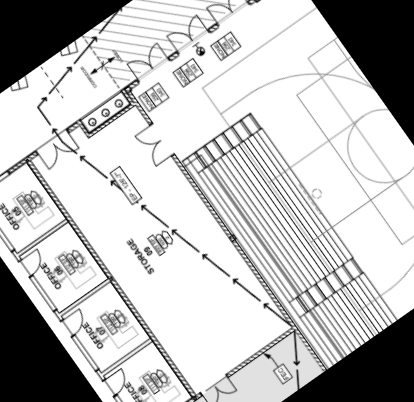door: (23, 158, 201, 402), (18, 246, 51, 278), (60, 307, 91, 338), (0, 187, 8, 218)
double door: (132, 121, 177, 171), (32, 126, 81, 171), (164, 12, 209, 54), (124, 41, 169, 82), (204, 0, 251, 26), (102, 366, 134, 398)
wall: (167, 149, 328, 373), (222, 323, 297, 381), (115, 76, 159, 129), (83, 101, 137, 143), (69, 111, 100, 147), (6, 148, 40, 176), (62, 115, 87, 137)
window: (199, 373, 239, 402), (0, 168, 12, 190)
